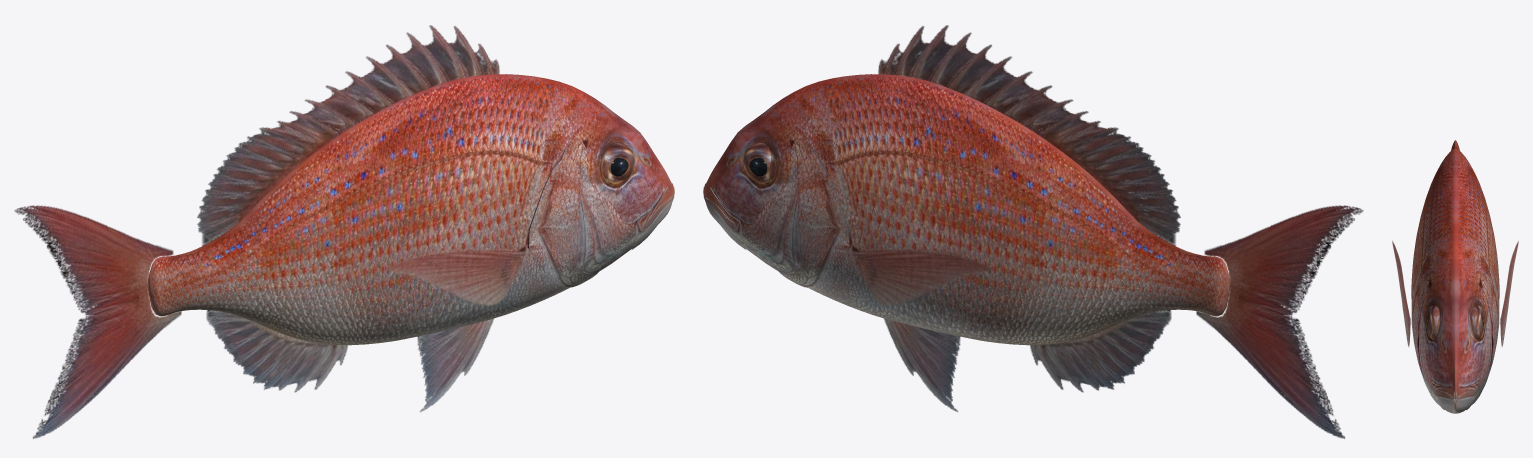
Rendered from madai.glb.
The picture shows the model from 3 angles, left to right: view 1: azimuth 30°, elevation 25°; view 2: azimuth 150°, elevation 25°; view 3: azimuth 270°, elevation 25°; orthographic projection. The views are drawn at different scales.
Visible parts, largest first — view 1: madai; view 2: madai; view 3: madai.
Boxes of the visible parts, x1,y1,x2,y2 form: madai: (14, 25, 674, 438); madai: (703, 25, 1363, 438); madai: (1392, 140, 1518, 413).
Size of the model in its own units: 0.4507 by 0.251 by 0.0914.
Materials: 1 (1 with a texture image).
